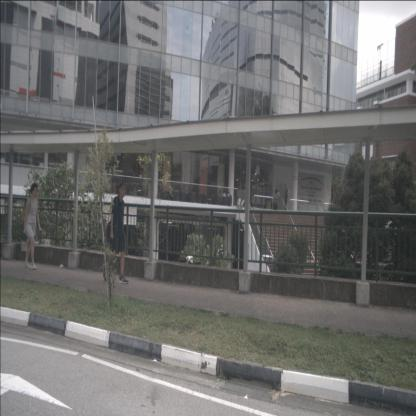human-pedestrian-adult: (102, 182, 128, 284), (22, 182, 43, 270), (284, 189, 288, 210), (226, 190, 230, 206), (223, 190, 226, 205), (218, 190, 221, 204)
